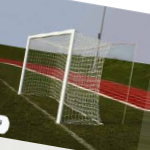goals: (15, 26, 104, 128)
